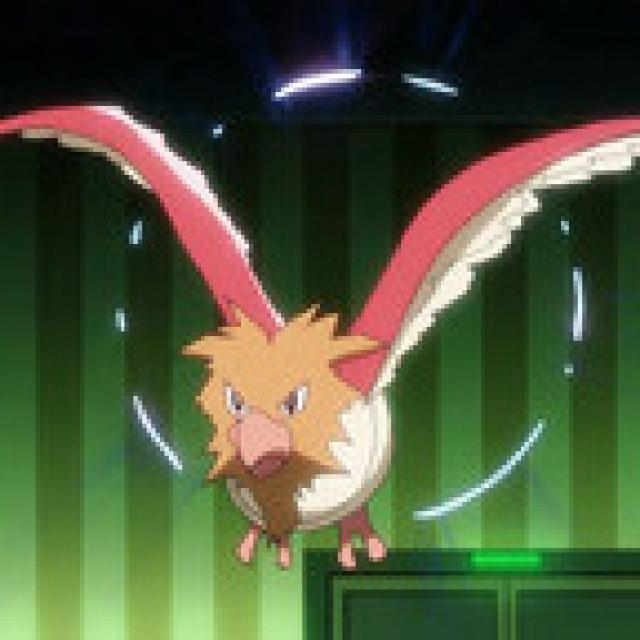Spearow: (118, 134, 500, 557)
